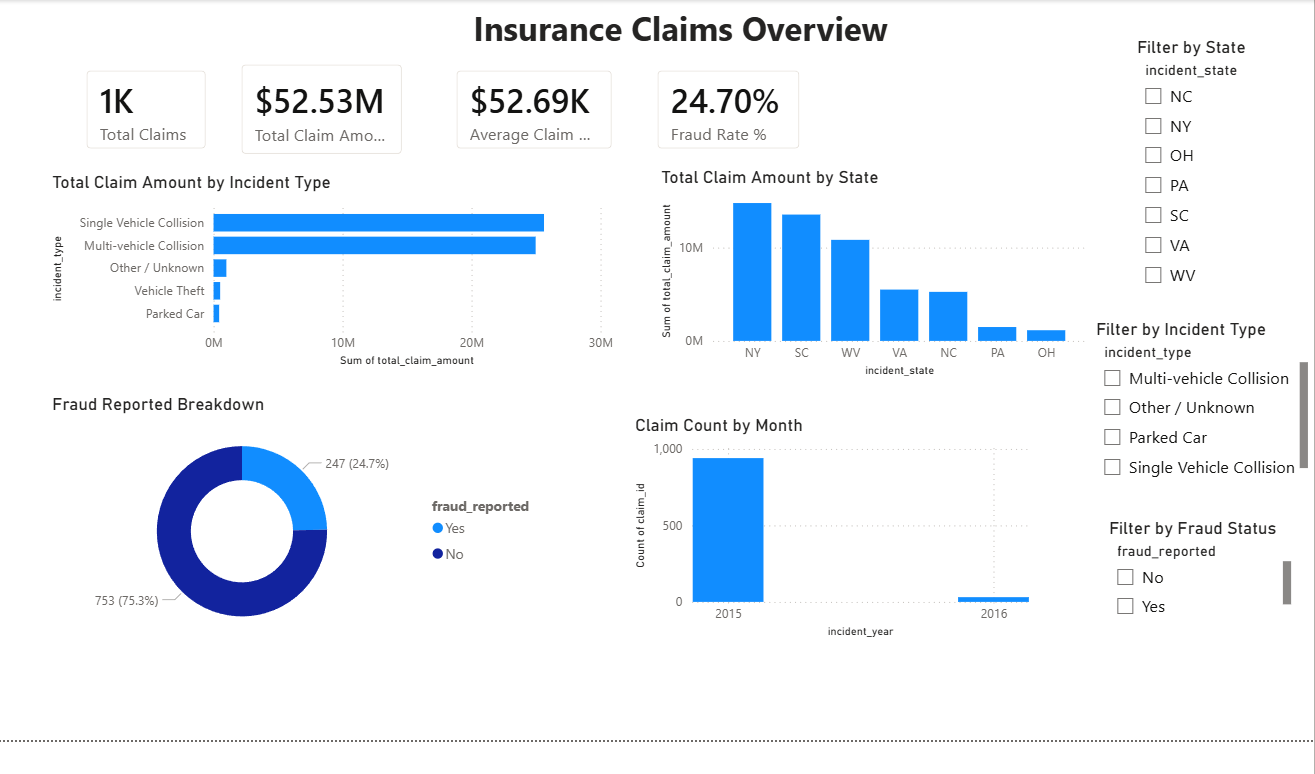

Layout of this report page (visuals, bound fields, positions):
{"tool":"powerbi","page":{"name":"Claims Overview","canvas":[1280,720],"ordinal":0},"visuals":[{"type":"textbox","box":[438.7,0,450.3,63.2],"z":0},{"type":"cardVisual","fields":{"Data":["Claims.Total Claims"]},"box":[69.1,51.6,150.8,110.9],"z":1000},{"type":"cardVisual","fields":{"Data":["Claims.Average Claim Amount"]},"box":[428.9,51.6,185.8,110.9],"z":2000},{"type":"cardVisual","fields":{"Data":["Claims.Fraud Rate %"]},"box":[624.4,51.6,172.2,110.9],"z":3000},{"type":"cardVisual","fields":{"Data":["Claims.Total Claim Amount"]},"box":[219.8,45.7,190.6,121.6],"z":4000},{"type":"clusteredBarChart","title":"Total Claim Amount by Incident Type","fields":{"Category":["Claims.incident_type"],"Y":["Sum(Claims.total_claim_amount)"]},"box":[47.7,167.3,555.4,193.6],"z":5000},{"type":"clusteredColumnChart","title":"Total Claim Amount by State","fields":{"Category":["Claims.incident_state"],"Y":["Sum(Claims.total_claim_amount)"]},"box":[640,162.4,423.1,208.1],"z":6000},{"type":"donutChart","title":"Fraud Reported Breakdown","fields":{"Category":["Claims.fraud_reported"],"Y":["CountNonNull(Claims.claim_id)"]},"box":[47.7,383.2,489.2,248],"z":7000},{"type":"clusteredColumnChart","title":"Claim Count by Month","fields":{"Category":["Claims.incident_year"],"Y":["CountNonNull(Claims.claim_id)"]},"box":[614.7,403.6,392.9,220.8],"z":7001},{"type":"slicer","title":"Filter by State","fields":{"Values":["Claims.incident_state"]},"box":[1103,36,151.7,262.6],"z":7002},{"type":"slicer","title":"Filter by Incident Type","fields":{"Values":["Claims.incident_type"]},"box":[1063.1,310.3,215.9,169.2],"z":7003},{"type":"slicer","title":"Filter by Fraud Status","fields":{"Values":["Claims.fraud_reported"]},"box":[1075.7,503.8,186.7,101.2],"z":7004}]}

Visuals, with their boxes on the page's 1280x720 design canvas (x1, y1, x2, y2). These are canvas units, not pixel positions in the 1315x774 screenshot, which may show the page scaled, cropped or inside an application window:
textbox: <box>439,0,889,63</box>
cardVisual - Claims.Total Claims: <box>69,52,220,162</box>
cardVisual - Claims.Average Claim Amount: <box>429,52,615,162</box>
cardVisual - Claims.Fraud Rate %: <box>624,52,797,162</box>
cardVisual - Claims.Total Claim Amount: <box>220,46,410,167</box>
"Total Claim Amount by Incident Type" clusteredBarChart: <box>48,167,603,361</box>
"Total Claim Amount by State" clusteredColumnChart: <box>640,162,1063,370</box>
"Fraud Reported Breakdown" donutChart: <box>48,383,537,631</box>
"Claim Count by Month" clusteredColumnChart: <box>615,404,1008,624</box>
"Filter by State" slicer: <box>1103,36,1255,299</box>
"Filter by Incident Type" slicer: <box>1063,310,1279,480</box>
"Filter by Fraud Status" slicer: <box>1076,504,1262,605</box>
